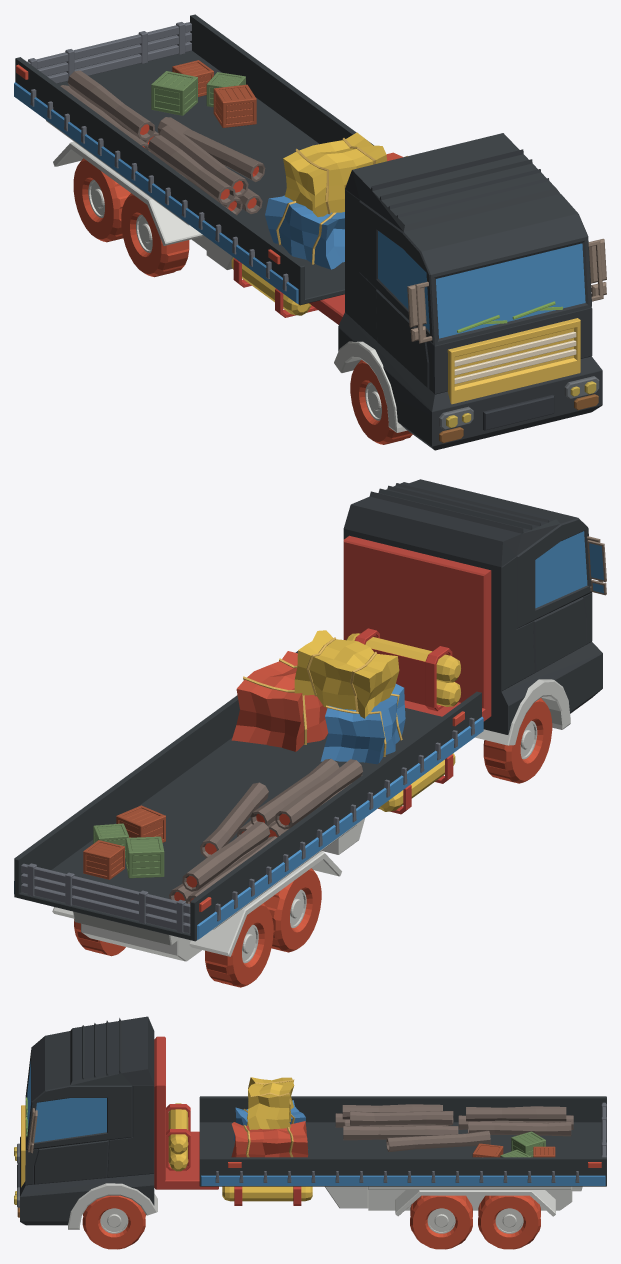
File: truck_a04.gltf
The picture shows the model from 3 angles, top to bottom: view 1: azimuth 30°, elevation 25°; view 2: azimuth 150°, elevation 25°; view 3: azimuth 270°, elevation 25°; orthographic projection. The views are drawn at different scales.
Visible parts, largest first — view 1: body, wheel_5, wheel_9, wheel_1; view 2: body, wheel_9, wheel_5, wheel_1; view 3: body, wheel_7, wheel_3, wheel_11, wheel_15, wheel_19, wheel_23.
Boxes of the visible parts, bbox=[...] form: body: bbox=[14, 14, 606, 450]; wheel_5: bbox=[73, 160, 113, 239]; wheel_9: bbox=[121, 195, 161, 274]; wheel_1: bbox=[350, 363, 389, 441]; body: bbox=[14, 479, 606, 987]; wheel_9: bbox=[281, 870, 321, 949]; wheel_5: bbox=[233, 905, 273, 984]; wheel_1: bbox=[511, 701, 552, 780]; body: bbox=[14, 1016, 606, 1249]; wheel_7: bbox=[481, 1196, 538, 1248]; wheel_3: bbox=[85, 1196, 142, 1248]; wheel_11: bbox=[413, 1196, 470, 1248]; wheel_15: bbox=[101, 1209, 126, 1231]; wheel_19: bbox=[497, 1209, 522, 1231]; wheel_23: bbox=[429, 1209, 454, 1231].
Size of the model in its own units: 3.29 by 4.07 by 12.05.
Materials: 1 (1 with a texture image).
